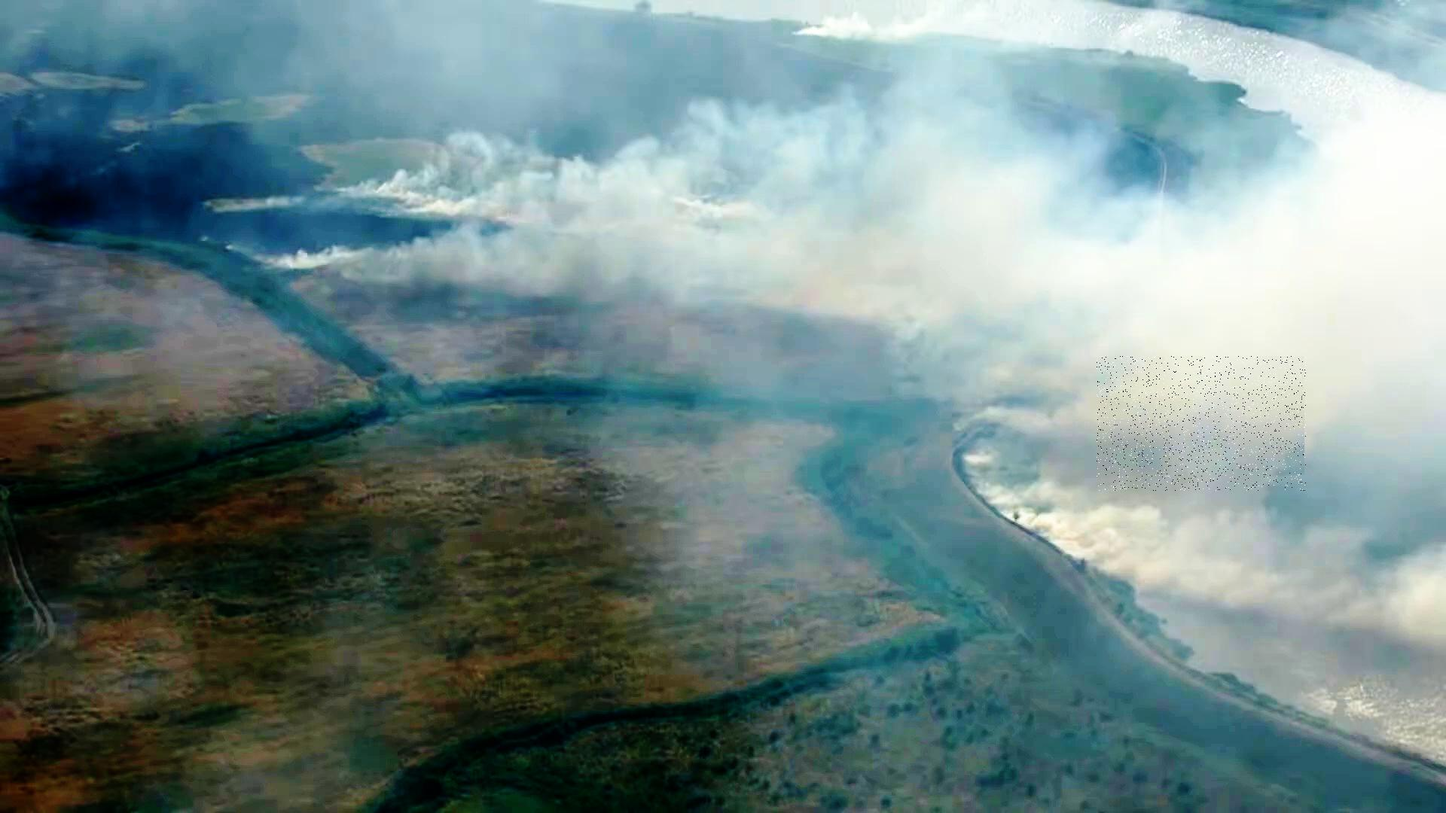smoke: (1097, 356, 1307, 491)
